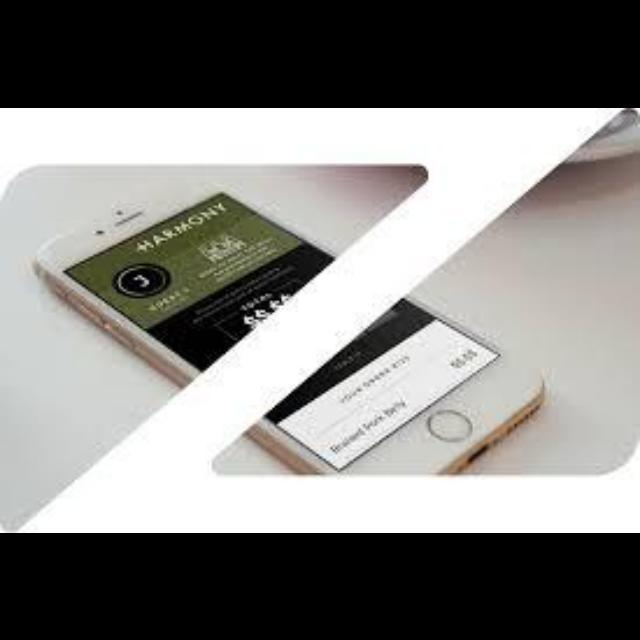phone: (53, 158, 565, 503)
